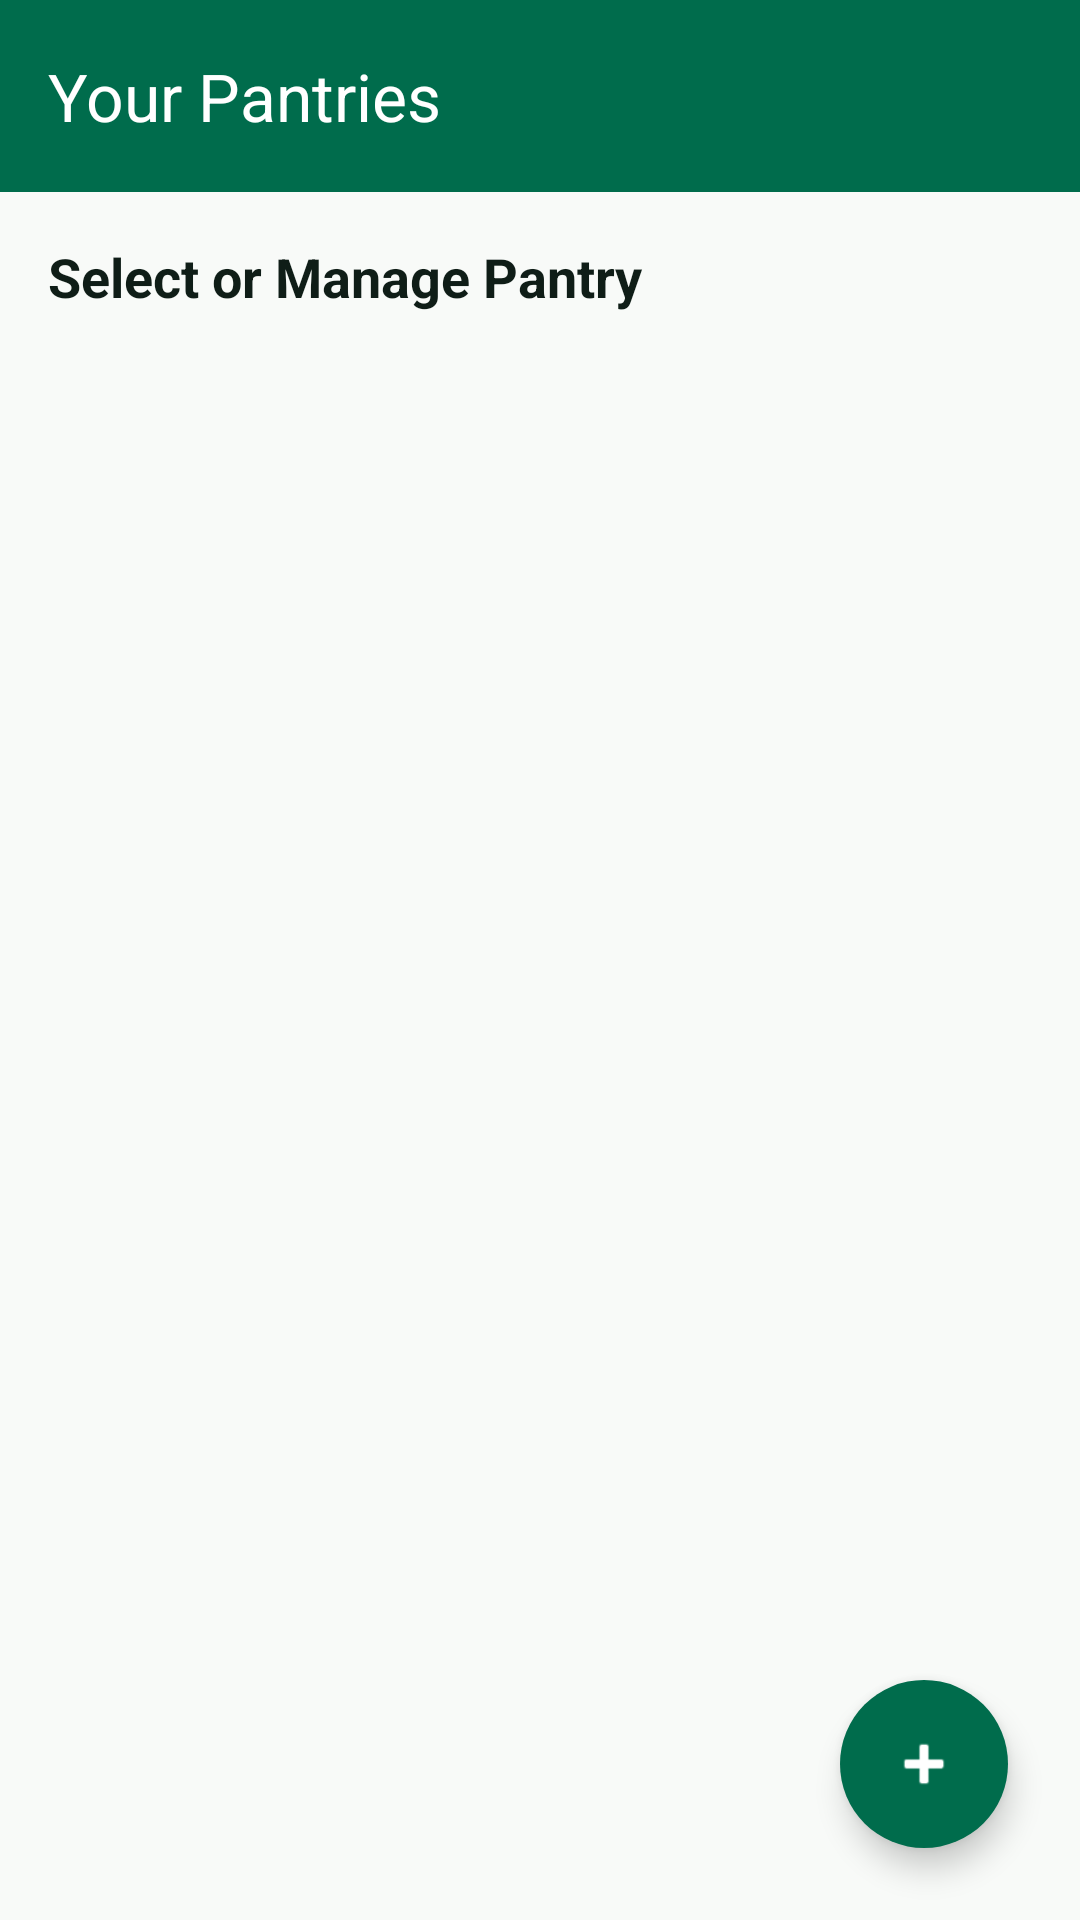

Icons on this 1080 x 1920 Android screen, each with its box as (x1, y1, x2, y2):
Add Pantry: (840, 1680, 1008, 1848)
